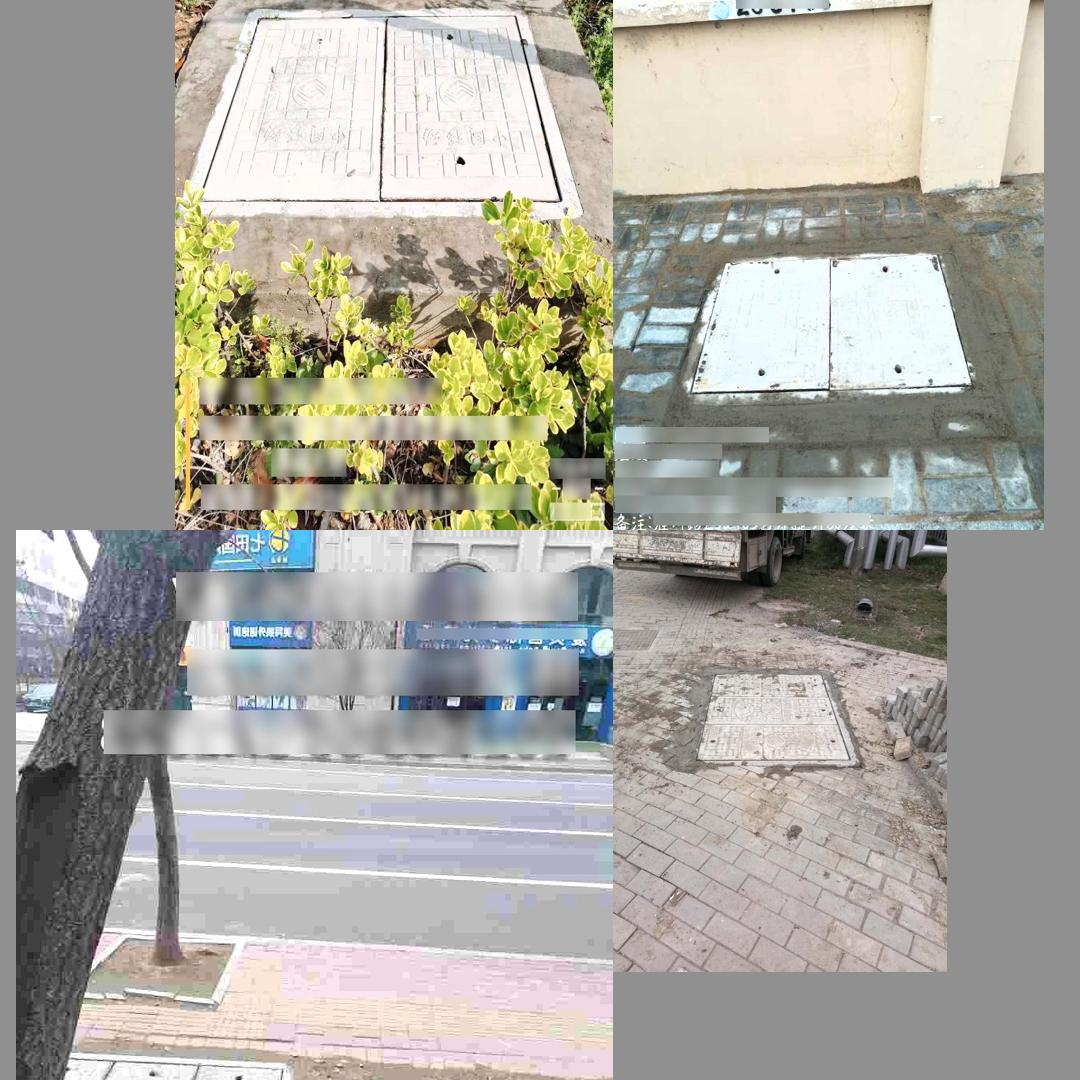good: (175, 9, 583, 216), (680, 252, 975, 399), (694, 670, 858, 766), (16, 1052, 293, 1080)
